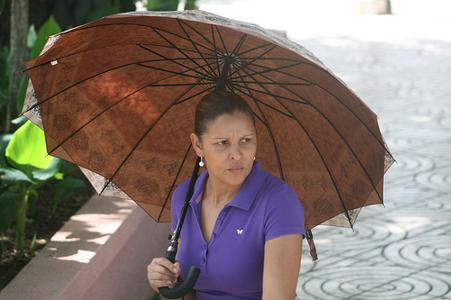person: (148, 89, 305, 300)
